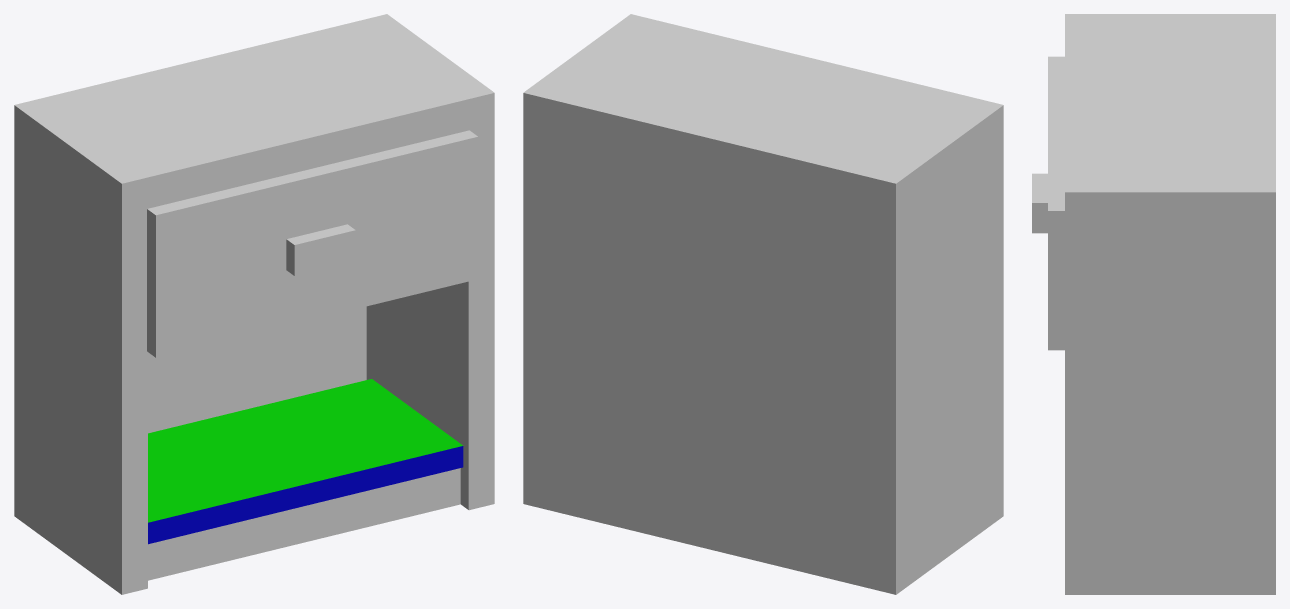
The model's file is EAThe80_BedsideTable_01a.glb.
The picture shows the model from 3 angles, left to right: view 1: azimuth 30°, elevation 25°; view 2: azimuth 150°, elevation 25°; view 3: azimuth 270°, elevation 25°; orthographic projection. The views are drawn at different scales.
Parts seen in each view (by area): view 1: EAThe80_BedsideTable_01a; view 2: EAThe80_BedsideTable_01a; view 3: EAThe80_BedsideTable_01a.
Part boxes in pixels (x1=…): EAThe80_BedsideTable_01a: x1=14, y1=14, x2=494, y2=594; EAThe80_BedsideTable_01a: x1=523, y1=14, x2=1003, y2=594; EAThe80_BedsideTable_01a: x1=1032, y1=14, x2=1275, y2=594.
Bounding box in the file's own units: 0.8423 × 0.8874 × 0.4869.
